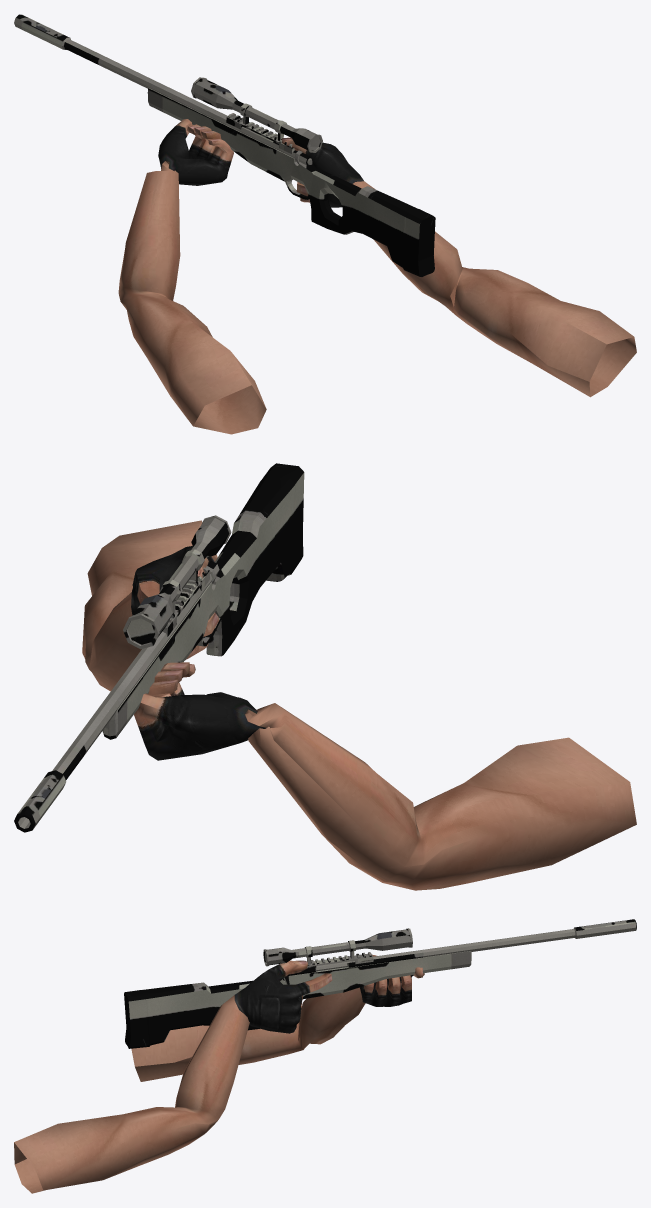
The model's file is gun_awp.glb.
3 renders of one model, top to bottom at view 1: azimuth 30°, elevation 25°; view 2: azimuth 150°, elevation 25°; view 3: azimuth 270°, elevation 25°, orthographic. The views are drawn at different scales.
Visible parts, largest first — view 1: body_ARMS, body_QUATP, body_QUAT; view 2: body_ARMS, body_QUATP, body_QUAT; view 3: body_ARMS, body_QUATP, body_QUAT.
Part boxes in pixels (bbox=[...]): body_ARMS: bbox=[118, 119, 636, 434]; body_QUATP: bbox=[147, 77, 435, 276]; body_QUAT: bbox=[14, 14, 320, 165]; body_ARMS: bbox=[82, 520, 636, 890]; body_QUATP: bbox=[102, 463, 304, 739]; body_QUAT: bbox=[14, 549, 219, 832]; body_ARMS: bbox=[14, 954, 424, 1193]; body_QUATP: bbox=[124, 928, 471, 1048]; body_QUAT: bbox=[265, 919, 636, 984].
Bounding box in the file's own units: 75.56 × 40.74 × 118.
Materials: 3 (3 with a texture image).
